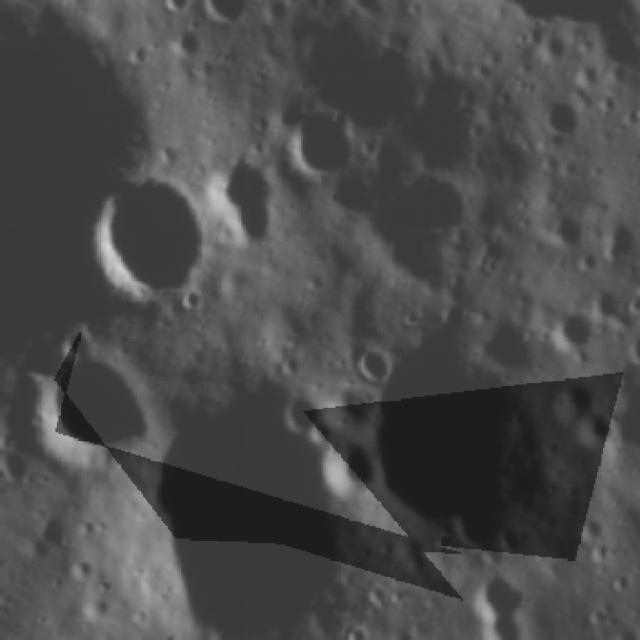crater: (19, 351, 150, 452), (89, 184, 208, 293), (286, 102, 356, 181), (211, 162, 277, 242), (315, 448, 373, 498), (550, 316, 596, 356), (359, 338, 387, 387), (283, 396, 320, 432), (548, 96, 578, 136)
